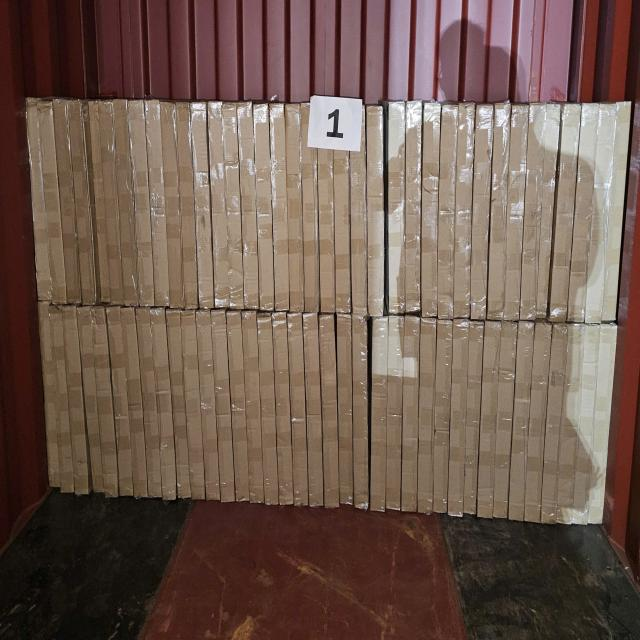Carton: (565, 106, 600, 322), (600, 102, 632, 324), (585, 104, 616, 326), (550, 105, 580, 323), (35, 98, 66, 303), (519, 99, 547, 319), (539, 326, 570, 524), (588, 326, 618, 526), (59, 304, 90, 496), (119, 308, 150, 497), (126, 99, 154, 308), (22, 96, 50, 303), (53, 98, 81, 304), (178, 311, 208, 502), (96, 100, 124, 304), (556, 322, 584, 526), (151, 308, 180, 502), (77, 307, 106, 501), (572, 324, 600, 524), (46, 306, 76, 492), (83, 97, 110, 303), (135, 308, 164, 499), (476, 320, 503, 520), (142, 100, 168, 307), (363, 104, 388, 318), (526, 324, 553, 521), (446, 322, 473, 519), (68, 100, 94, 304), (505, 104, 529, 323), (107, 306, 134, 500), (210, 313, 237, 504), (493, 322, 519, 520), (167, 312, 194, 501), (189, 100, 213, 312), (255, 310, 281, 505), (176, 100, 200, 310), (463, 320, 488, 520), (240, 312, 266, 504), (112, 100, 136, 306), (509, 321, 534, 518), (196, 311, 222, 500), (93, 305, 118, 500), (220, 100, 243, 310), (235, 100, 258, 310), (161, 99, 184, 308), (415, 316, 439, 516), (206, 101, 229, 309), (302, 313, 326, 508), (471, 101, 492, 322), (489, 104, 510, 324), (399, 316, 422, 516), (268, 105, 290, 314), (286, 315, 310, 506), (226, 312, 250, 503), (36, 299, 60, 490), (252, 102, 274, 310), (270, 314, 294, 504), (318, 314, 341, 510), (314, 104, 335, 318), (283, 103, 304, 314), (432, 319, 454, 516), (299, 103, 319, 314), (452, 100, 471, 320), (438, 102, 457, 320), (351, 315, 372, 512), (369, 316, 389, 516), (386, 100, 404, 316), (403, 100, 421, 316), (334, 98, 352, 313), (336, 315, 356, 508), (386, 317, 405, 514), (536, 100, 552, 324), (420, 100, 436, 316), (352, 100, 366, 316)
